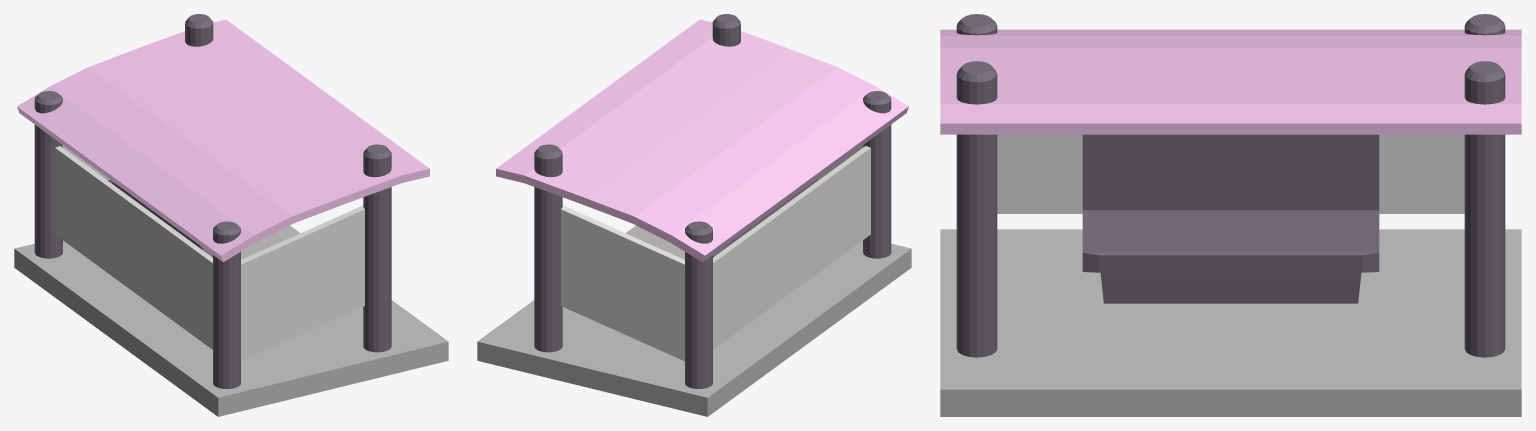
Rendered from bus stop.fbx.
3 renders of one model, left to right at view 1: azimuth 30°, elevation 25°; view 2: azimuth 150°, elevation 25°; view 3: azimuth 270°, elevation 25°, orthographic. The views are drawn at different scales.
Parts seen in each view (by area): view 1: roof, glass, floor, pillars; view 2: roof, glass, floor, pillars; view 3: floor, roof, bench, pillars, glass.
Part boxes in pixels (x1=…): roof: x1=17, y1=19, x2=429, y2=262; glass: x1=55, y1=145, x2=364, y2=361; floor: x1=14, y1=225, x2=448, y2=416; pillars: x1=34, y1=14, x2=391, y2=388; roof: x1=496, y1=19, x2=908, y2=262; glass: x1=561, y1=145, x2=870, y2=361; floor: x1=477, y1=225, x2=911, y2=416; pillars: x1=534, y1=14, x2=891, y2=388; floor: x1=940, y1=229, x2=1521, y2=416; roof: x1=940, y1=29, x2=1521, y2=134; bench: x1=1082, y1=134, x2=1379, y2=303; pillars: x1=956, y1=14, x2=1505, y2=357; glass: x1=997, y1=134, x2=1464, y2=213.
Size of the model in its own units: 499 by 448 by 764.
